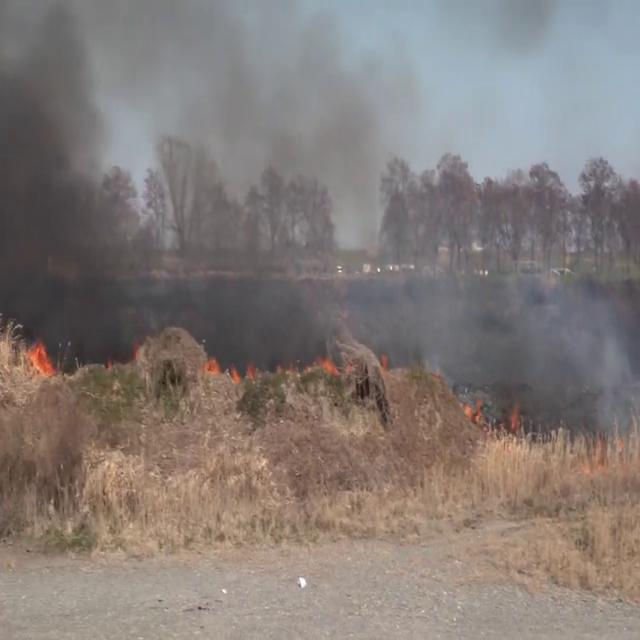Fire: (0, 333, 68, 411)
Smoke: (0, 0, 396, 387), (389, 187, 638, 436)
